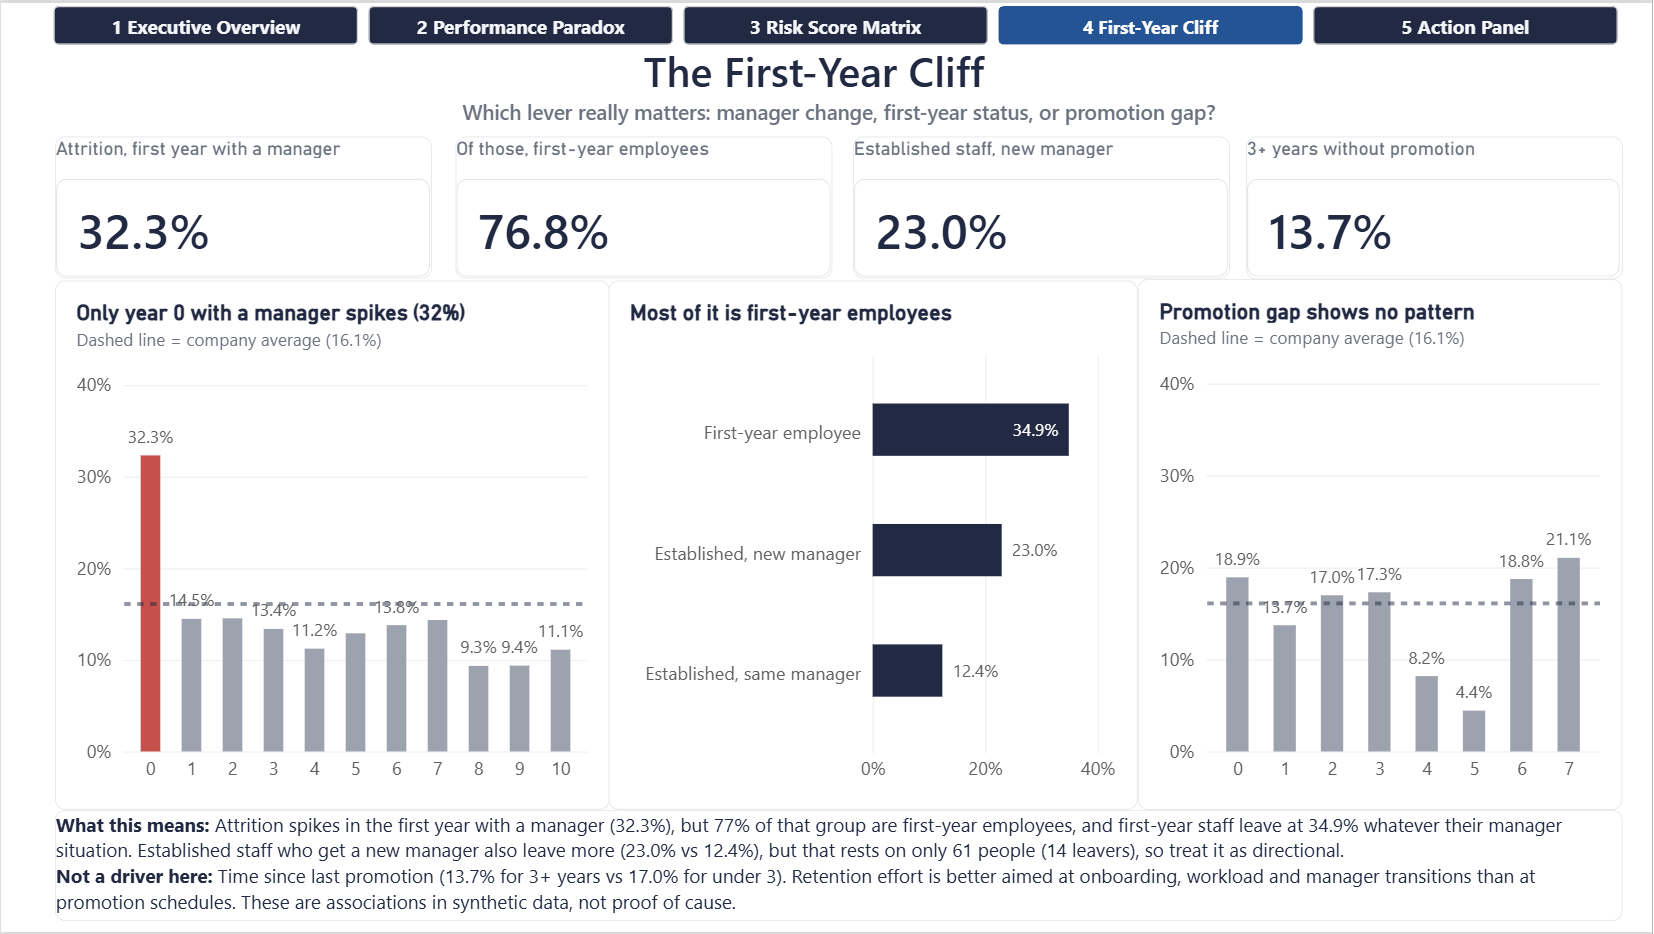

Layout of this report page (visuals, bound fields, positions):
{"tool":"powerbi","page":{"name":"4 First-Year Cliff","canvas":[1280,720],"ordinal":4},"visuals":[{"type":"textbox","box":[10.5,30,1238.9,51.1],"z":0},{"type":"textbox","box":[41.8,73,1214.5,31.4],"z":1000},{"type":"cardVisual","title":"Attrition, first year with a manager","fields":{"Data":["select","_Measures.New Manager Attrition"]},"box":[41.8,103.4,292,110],"z":2000},{"type":"cardVisual","title":"Of those, first-year employees","fields":{"Data":["select","_Measures.First-Year Share of New Manager"]},"box":[352.2,103.4,292,110],"z":3000},{"type":"cardVisual","title":"Established staff, new manager","fields":{"Data":["select","_Measures.Established New Manager Attrition"]},"box":[660.1,103.4,292,110],"z":4000},{"type":"cardVisual","title":"3+ years without promotion","fields":{"Data":["select","_Measures.Promo Stagnation Attrition"]},"box":[964.7,103.4,291.7,110.4],"z":5000},{"type":"clusteredColumnChart","title":"Only year 0 with a manager spikes (32%)","fields":{"Category":["employees.years_with_curr_manager"],"Y":["_Measures.Attrition Rate"]},"box":[41.8,215,430,410.3],"z":6000},{"type":"clusteredBarChart","title":"Most of it is first-year employees","fields":{"Category":["employees.Tenure Group"],"Y":["_Measures.Attrition Rate"]},"box":[470.7,215,410.3,410.3],"z":7000},{"type":"clusteredColumnChart","title":"Promotion gap shows no pattern","fields":{"Category":["employees.years_since_last_promotion"],"Y":["_Measures.Attrition Rate"]},"box":[881,213.9,375.4,411.4],"z":8000},{"type":"textbox","box":[41.8,625.3,1214.5,86],"z":9000},{"type":"pageNavigator","box":[41,2,1214.5,30],"z":9001}]}

Visuals, with their boxes in screenshot pixels (x1, y1, x2, y2), scaled from the page's 1280x720 canvas onto the 1654x934 screenshot:
textbox: detection(14, 39, 1614, 105)
textbox: detection(54, 95, 1623, 135)
"Attrition, first year with a manager" cardVisual: detection(54, 134, 431, 277)
"Of those, first-year employees" cardVisual: detection(455, 134, 832, 277)
"Established staff, new manager" cardVisual: detection(853, 134, 1230, 277)
"3+ years without promotion" cardVisual: detection(1247, 134, 1624, 277)
"Only year 0 with a manager spikes (32%)" clusteredColumnChart: detection(54, 279, 610, 811)
"Most of it is first-year employees" clusteredBarChart: detection(608, 279, 1138, 811)
"Promotion gap shows no pattern" clusteredColumnChart: detection(1138, 277, 1624, 811)
textbox: detection(54, 811, 1623, 923)
pageNavigator: detection(53, 3, 1622, 42)
